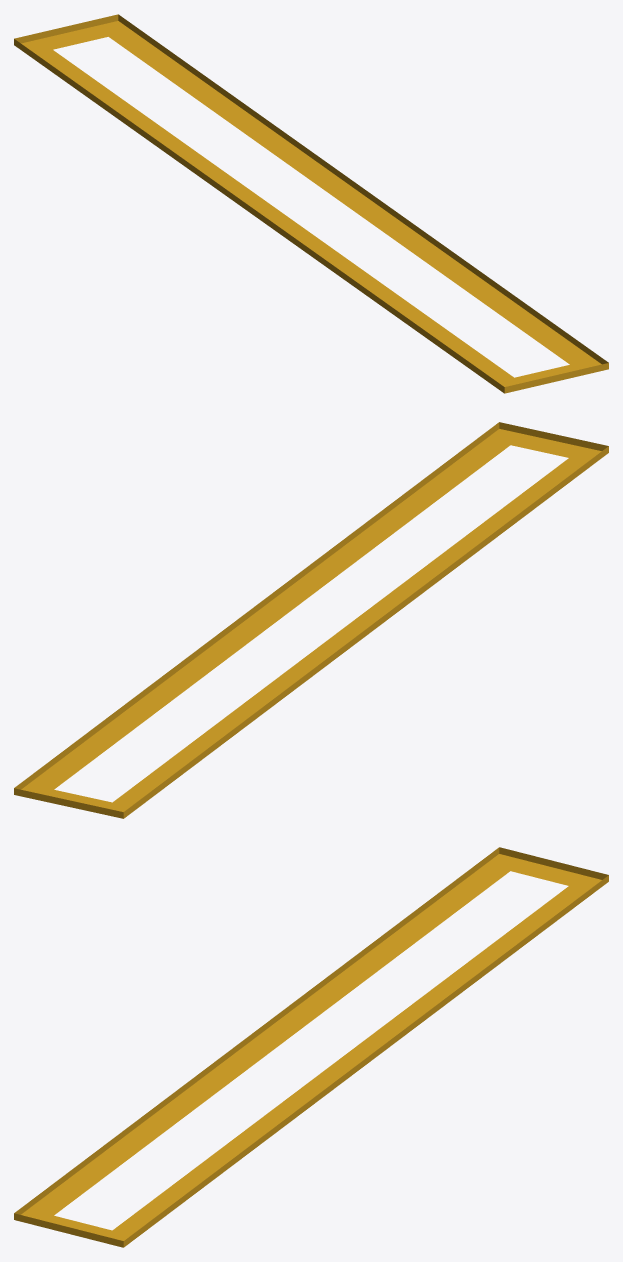
The model's file is original-15.obj.
3 renders of one model, top to bottom at view 1: azimuth 30°, elevation 25°; view 2: azimuth 150°, elevation 25°; view 3: azimuth 330°, elevation 25°, orthographic. The views are drawn at different scales.
Visible parts, largest first — view 1: #ID68; view 2: #ID68; view 3: #ID68.
Part boxes in pixels (x1,y1,x2,y2): #ID68: (14, 14, 608, 393); #ID68: (14, 422, 608, 818); #ID68: (14, 847, 608, 1247).
Bounding box in the file's own units: 0.0282 × 0.00194 × 0.2025.
